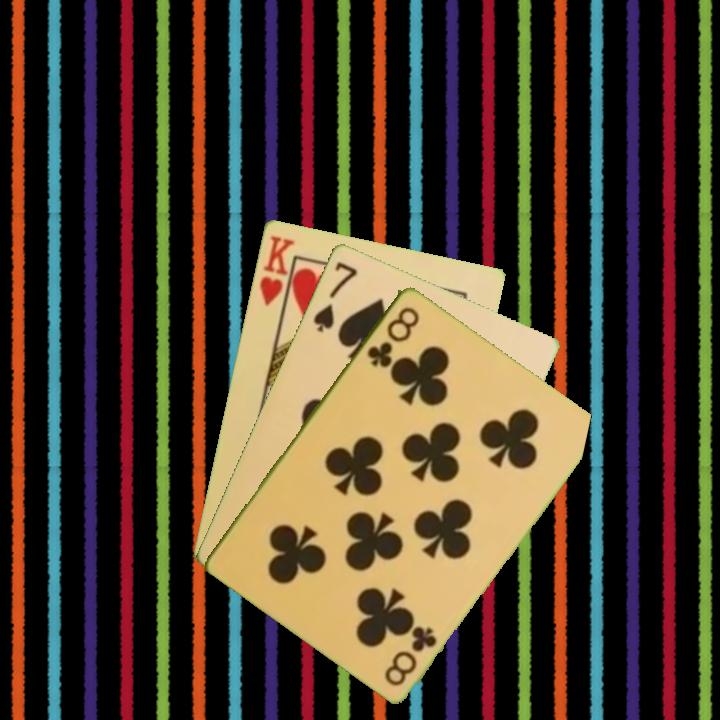7s: (309, 257, 361, 335)
8c: (363, 302, 423, 370), (381, 622, 440, 689)
Kh: (255, 231, 297, 316)
